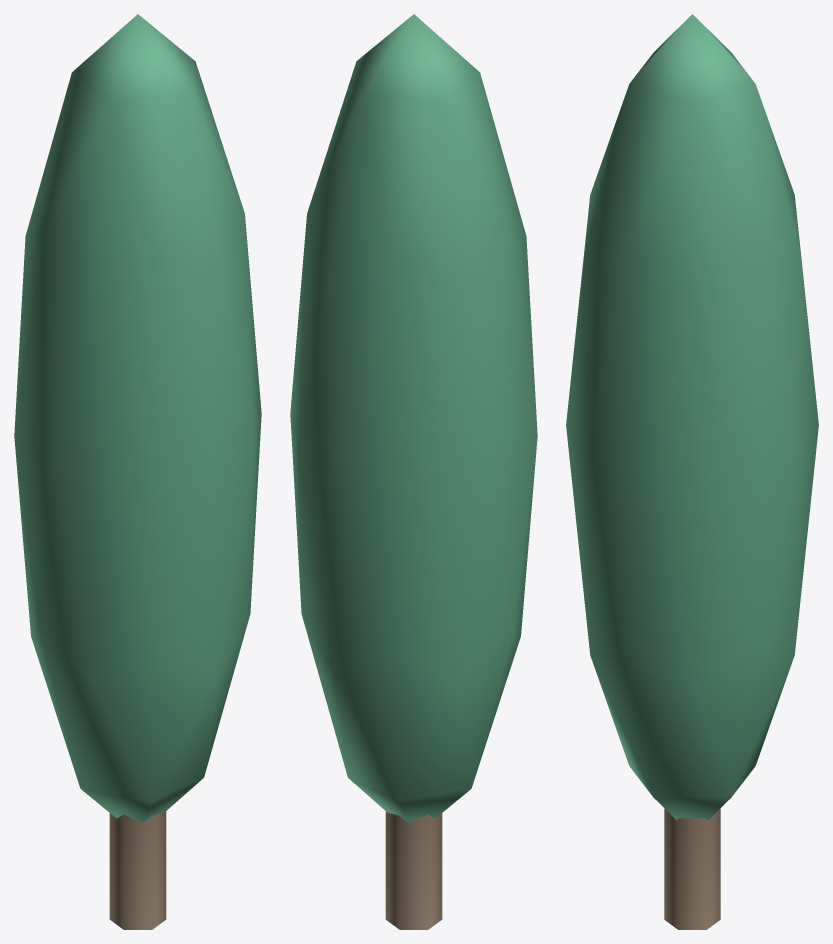
The model's file is cypress.glb.
The picture shows the model from 3 angles, left to right: view 1: azimuth 30°, elevation 25°; view 2: azimuth 150°, elevation 25°; view 3: azimuth 270°, elevation 25°; orthographic projection.
Parts seen in each view (by area): view 1: cypress; view 2: cypress; view 3: cypress.
Part boxes in pixels (left/top/right/bottom): cypress: left=14, top=14, right=261, bottom=929; cypress: left=290, top=14, right=537, bottom=929; cypress: left=566, top=14, right=818, bottom=929.
Size of the model in its own units: 0.595 by 2.47 by 0.6256.
